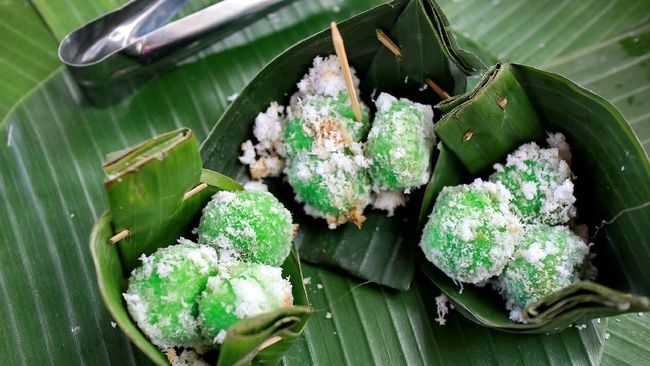klepon: (413, 169, 524, 286)
